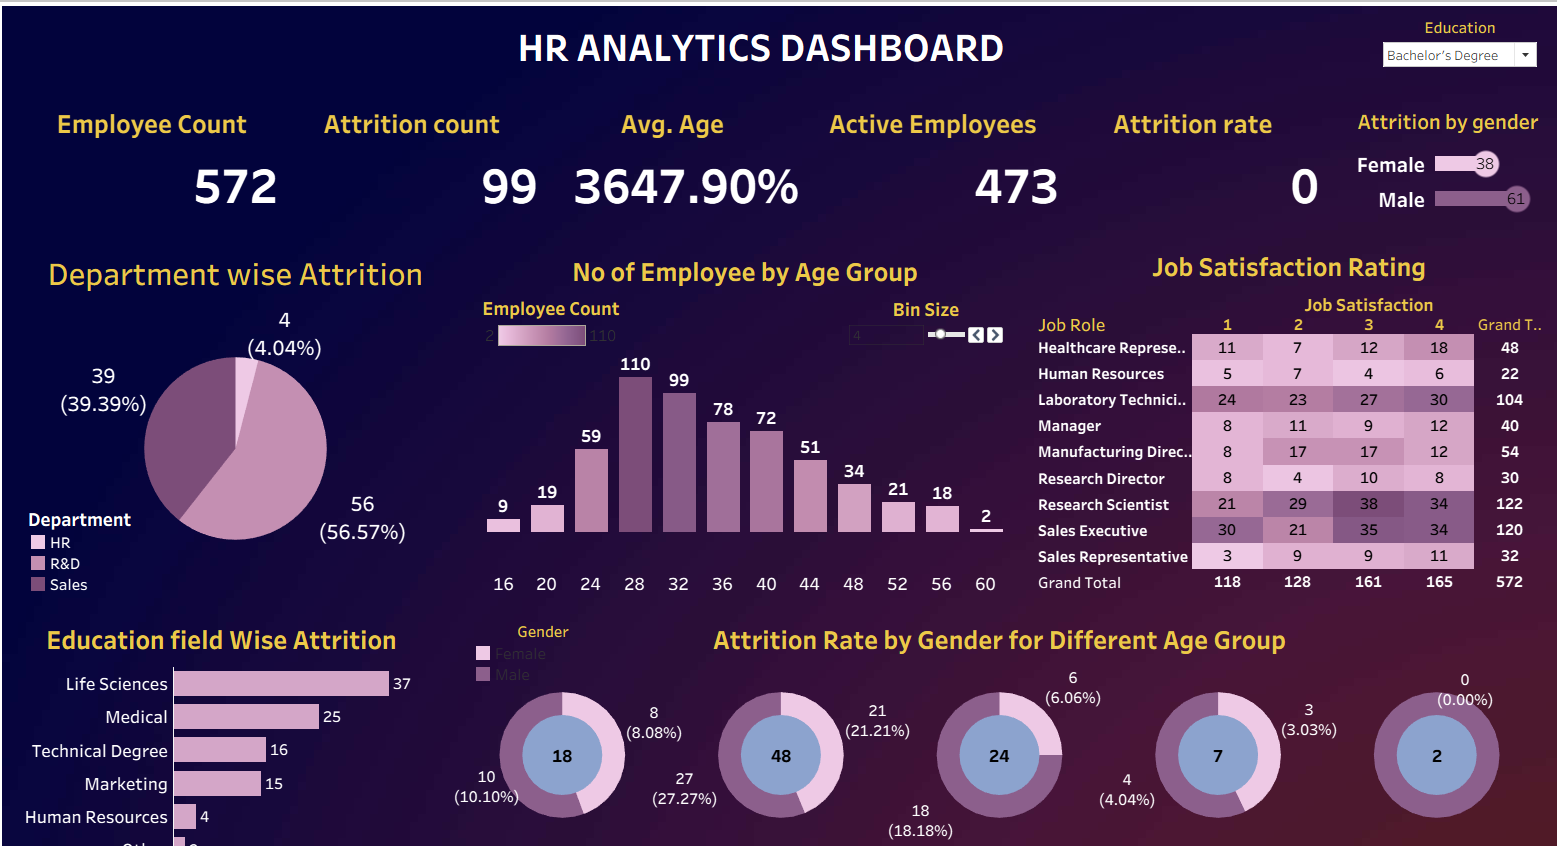

The page's visual inventory and layout, read from the dashboard file:
{"tool":"tableau","page":{"name":"HR ANALYTICS DASHBOARD","canvas":[1580,900],"ordinal":0},"visuals":[{"type":"image","param":"Image/dark-gradient.jpg","box":[8,8,1564,884]},{"type":"filter","title":"Department wise Attrition","param":"[federated.0hw1ntx1rwazhf11by5x40z7i7tk].[none:Education:nk]","box":[1390,23,160,57]},{"type":"text","box":[524,27,494,50]},{"type":"worksheet","title":"KPI","mark":"Automatic","box":[32,105,1301,121]},{"type":"worksheet","title":"Attrition by gender","mark":"Automatic","rows":["Gender"],"cols":["Calculation_0743839516610560","Calculation_0743839516610560"],"box":[1360,109,196,113]},{"type":"worksheet","title":"Job Satisfaction Rating","mark":"Square","rows":["Job Role"],"cols":["Job Satisfaction"],"box":[1042,251,514,350]},{"type":"worksheet","title":"Department wise Attrition","mark":"Pie","box":[26,254,439,345]},{"type":"worksheet","title":"No of Employee by Age Group","mark":"Automatic","rows":["Employee Count"],"cols":["Age (bin)"],"box":[492,256,526,346]},{"type":"legend","title":"No of Employee by Age Group","param":"[federated.0hw1ntx1rwazhf11by5x40z7i7tk].[sum:Employee Count:qk]","box":[491,301,140,88]},{"type":"parameter","param":"[Parameters].[Parameter 1316960037015552]","box":[856,302,160,71]},{"type":"legend","title":"Department wise Attrition","param":"[federated.0hw1ntx1rwazhf11by5x40z7i7tk].[none:Department:nk]","box":[38,512,140,92]},{"type":"worksheet","title":"Education field Wise Attrition","mark":"Automatic","rows":["Education Field"],"cols":["Calculation_0743839516610560"],"box":[23,624,417,248]},{"type":"worksheet","title":"Attrition Rate by Gender for Different Age Group","mark":"Pie","rows":["Calculation_0155601081126913","Calculation_0155601081126913"],"cols":["CF_age band"],"box":[463,624,1093,250]},{"type":"legend","title":"Attrition Rate by Gender for Different Age Group","param":"[federated.0hw1ntx1rwazhf11by5x40z7i7tk].[none:Gender:nk]","box":[483,627,140,64]}]}

Visuals, with their boxes on the page's 1580x900 design canvas (x1, y1, x2, y2). These are canvas units, not pixel positions in the 1557x846 screenshot, which may show the page scaled, cropped or inside an application window:
image: bbox=[8, 8, 1572, 892]
"Department wise Attrition" filter: bbox=[1390, 23, 1550, 80]
text: bbox=[524, 27, 1018, 77]
"KPI" worksheet: bbox=[32, 105, 1333, 226]
"Attrition by gender" worksheet: bbox=[1360, 109, 1556, 222]
"Job Satisfaction Rating" worksheet (Square marks): bbox=[1042, 251, 1556, 601]
"Department wise Attrition" worksheet (Pie marks): bbox=[26, 254, 465, 599]
"No of Employee by Age Group" worksheet: bbox=[492, 256, 1018, 602]
"No of Employee by Age Group" legend: bbox=[491, 301, 631, 389]
parameter: bbox=[856, 302, 1016, 373]
"Department wise Attrition" legend: bbox=[38, 512, 178, 604]
"Education field Wise Attrition" worksheet: bbox=[23, 624, 440, 872]
"Attrition Rate by Gender for Different Age Group" worksheet (Pie marks): bbox=[463, 624, 1556, 874]
"Attrition Rate by Gender for Different Age Group" legend: bbox=[483, 627, 623, 691]
